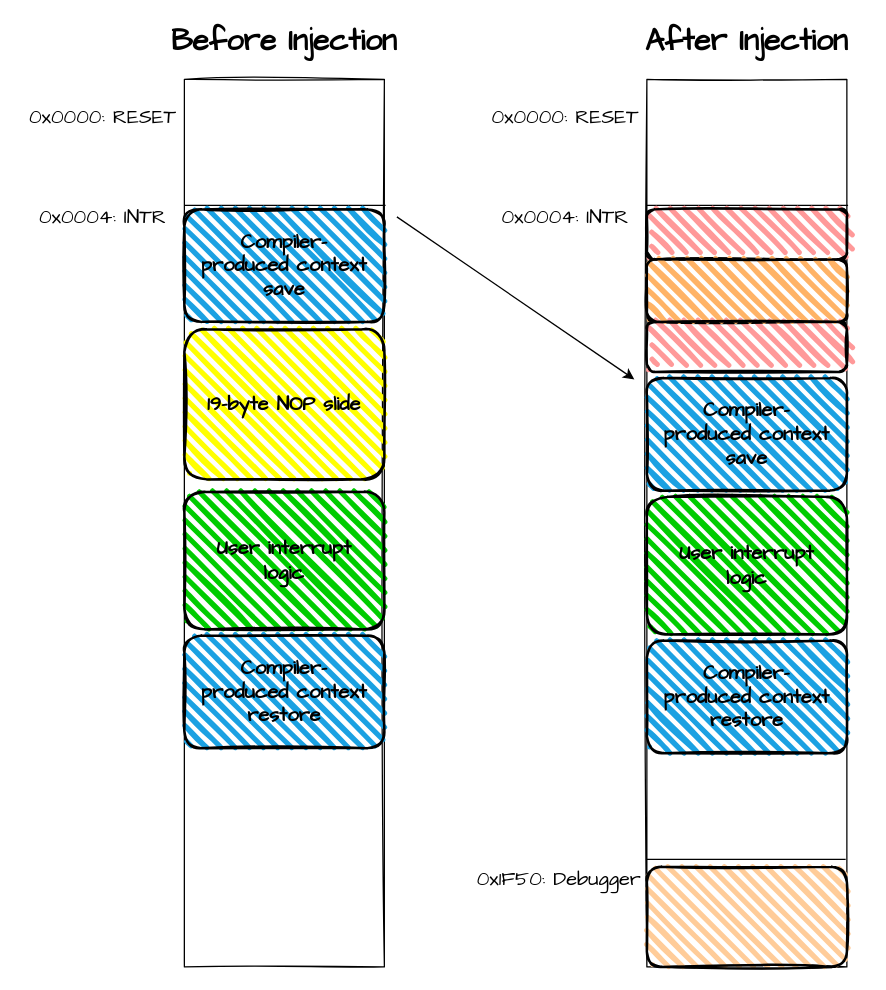
The diagram is 886 pixels wide and 990 high, and some of its shapes have lost their labels. The shapes that lost their labels are listed below. From the top down, each one's centre as x and y in pixels, then its label:
At [746,234]: "Debugger context save".
At [746,290]: "Start debugger (GOTO 0x1F50)".
At [746,346]: "Debugger context restore".
At [746,916]: "Debugger logic".
